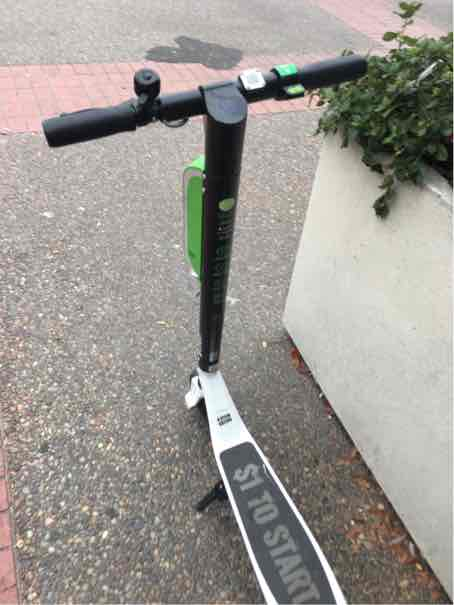scooter: (33, 64, 371, 605)
